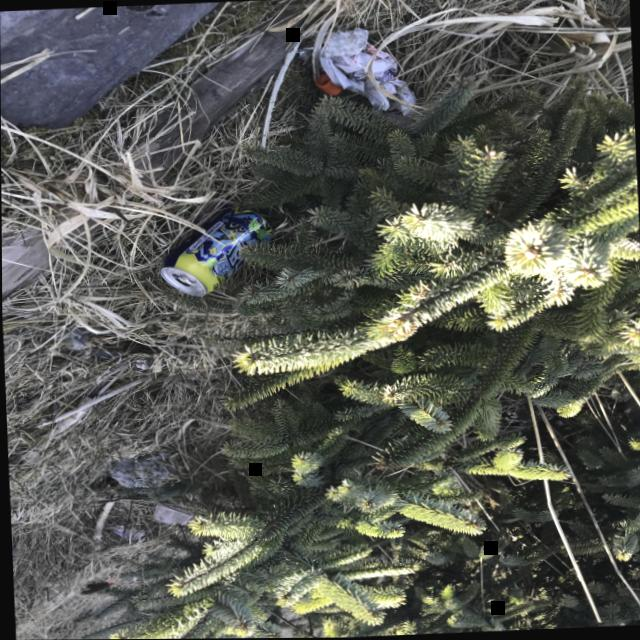Disposable food container: (153, 505, 192, 525)
Drink can: (159, 205, 272, 296)
Plastic bottle cap: (315, 75, 341, 95)
Pop tab: (177, 277, 195, 286)
Unlabeled litter: (319, 46, 418, 127), (322, 29, 367, 58), (108, 528, 143, 540)
